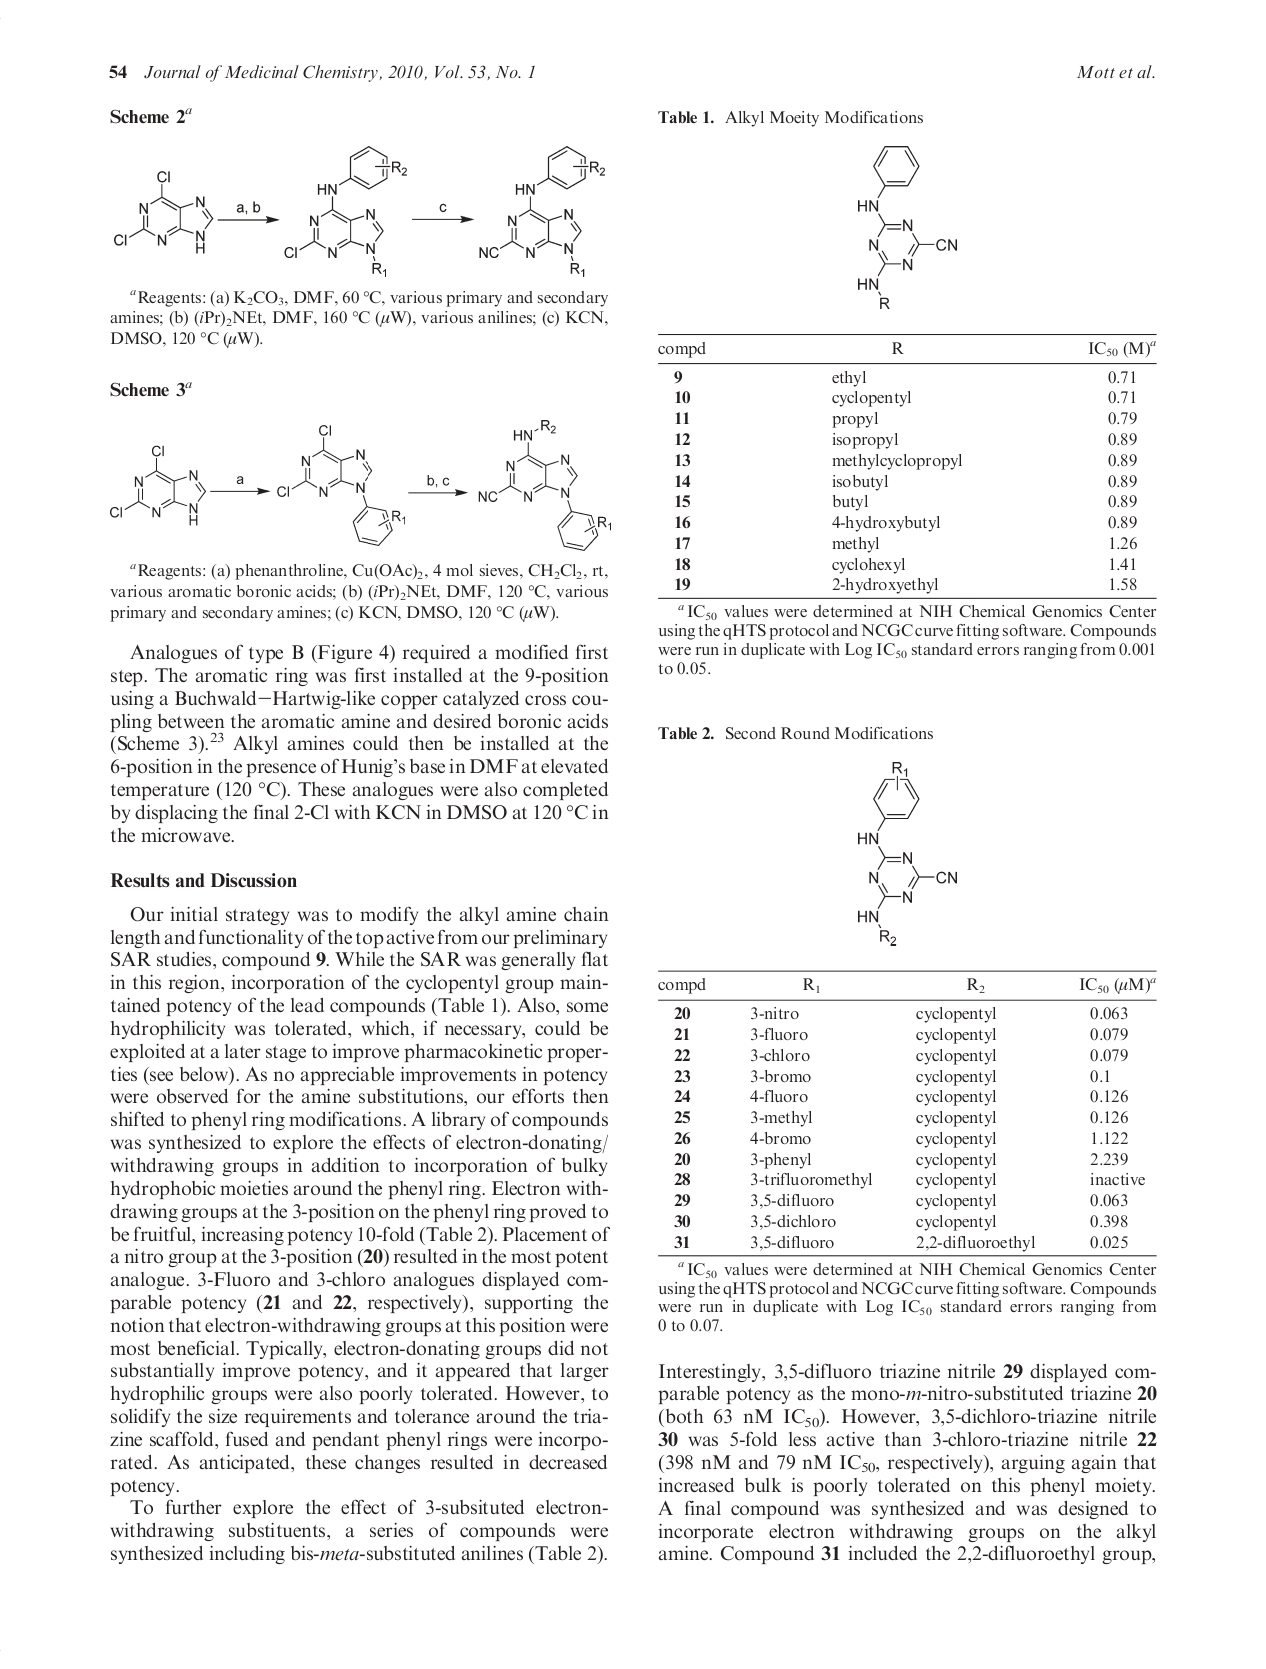exist_molecular: (854, 758, 959, 948), (475, 418, 613, 551), (476, 144, 608, 277), (855, 144, 957, 313), (283, 144, 408, 279), (275, 422, 408, 547), (112, 172, 214, 255), (108, 444, 206, 525)
